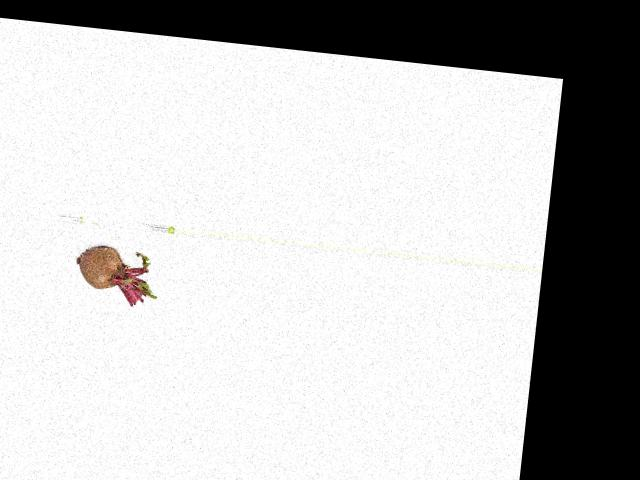beet: (71, 243, 160, 308)
